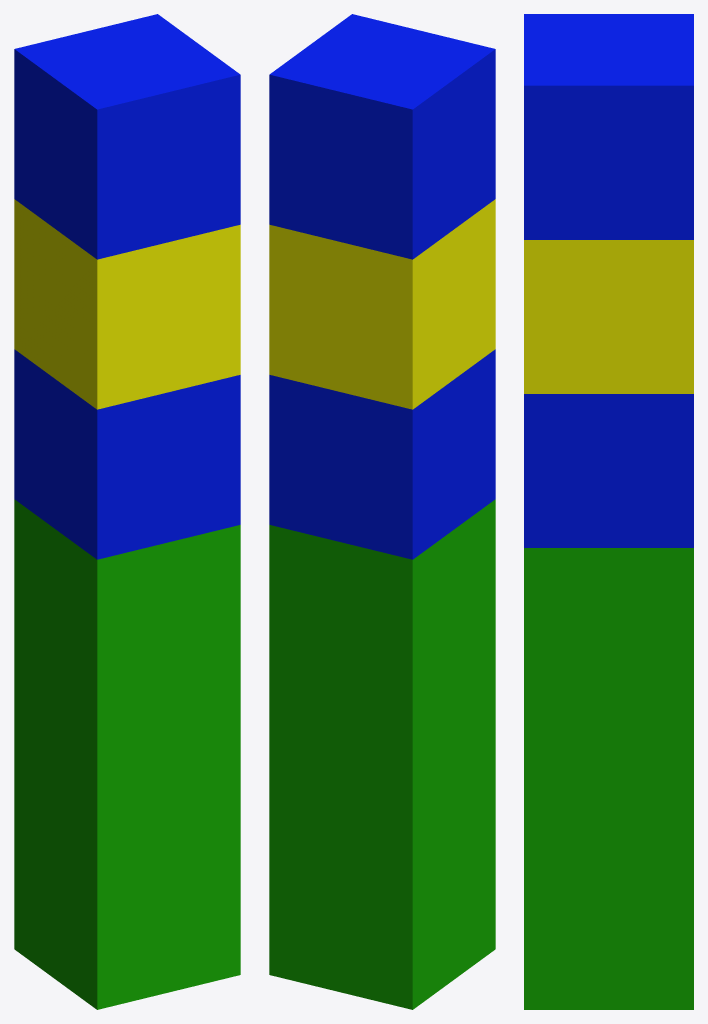
Rendered from Flax (Stage 4).obj.
3 views of the same model, side by side, from view 1: azimuth 30°, elevation 25°; view 2: azimuth 150°, elevation 25°; view 3: azimuth 270°, elevation 25° (orthographic). The views are drawn at different scales.
Bounding box in the file's own units: 0.1 × 0.6 × 0.1.
1 material, 1 textured.
